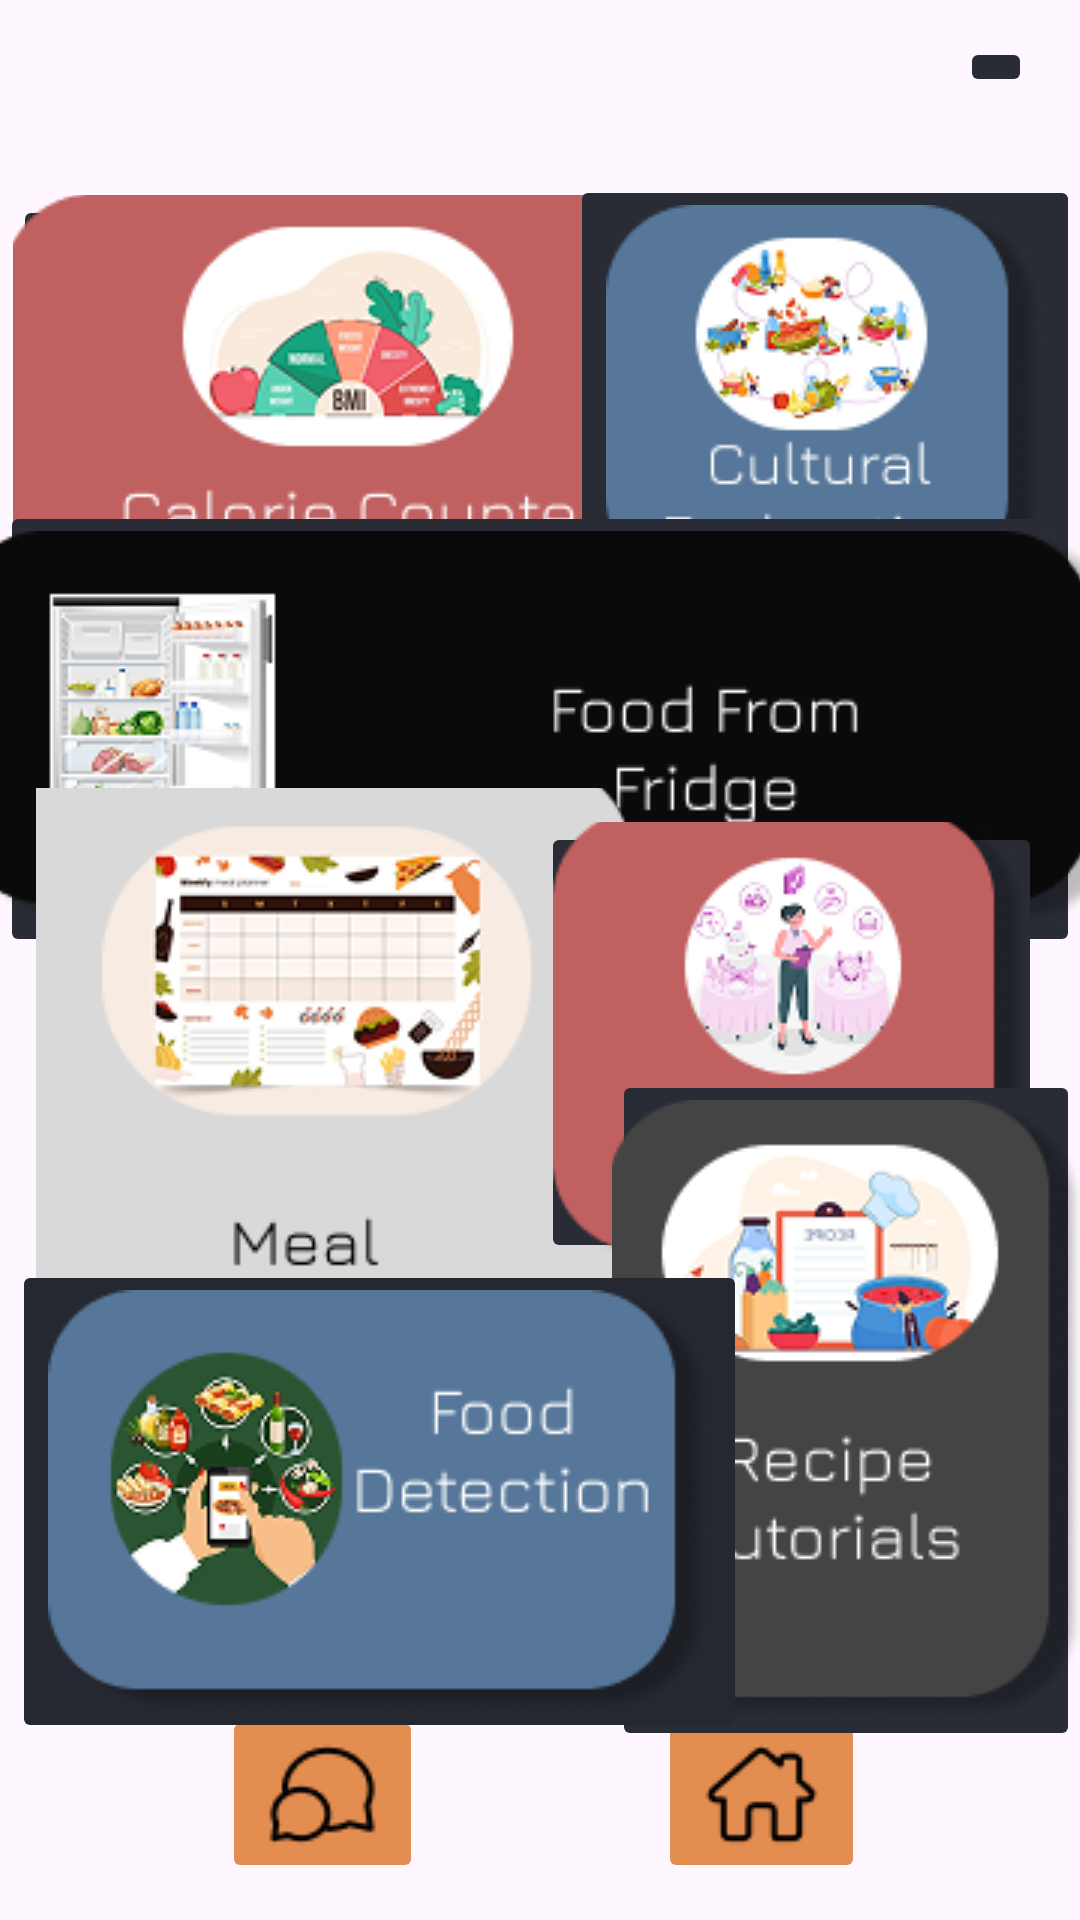

Where icons sit on this 1080px×1920px app screen, as {"left": x1, "top": y1, "right": x2, "bottom": y2}:
chat: {"left": 222, "top": 1706, "right": 423, "bottom": 1865}
home: {"left": 658, "top": 1706, "right": 865, "bottom": 1865}
